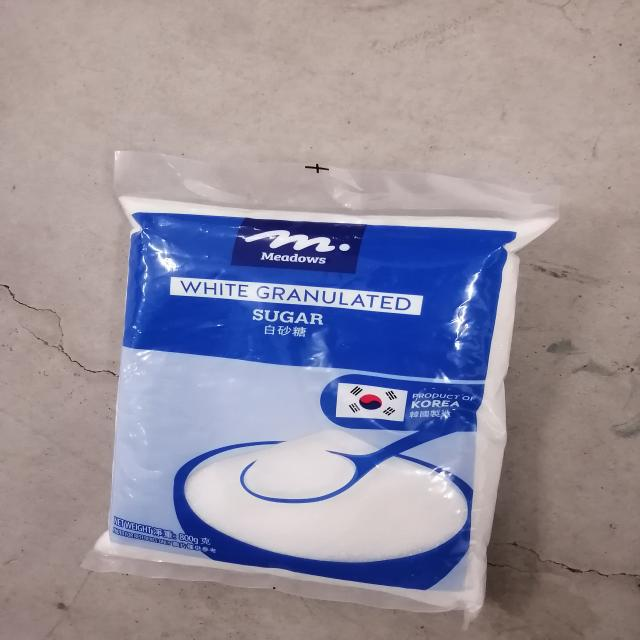object_name: (115, 184, 497, 605)
